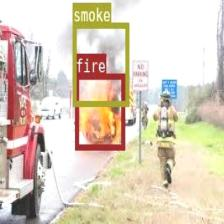fire: (74, 74, 124, 150)
smoke: (72, 22, 128, 106)
